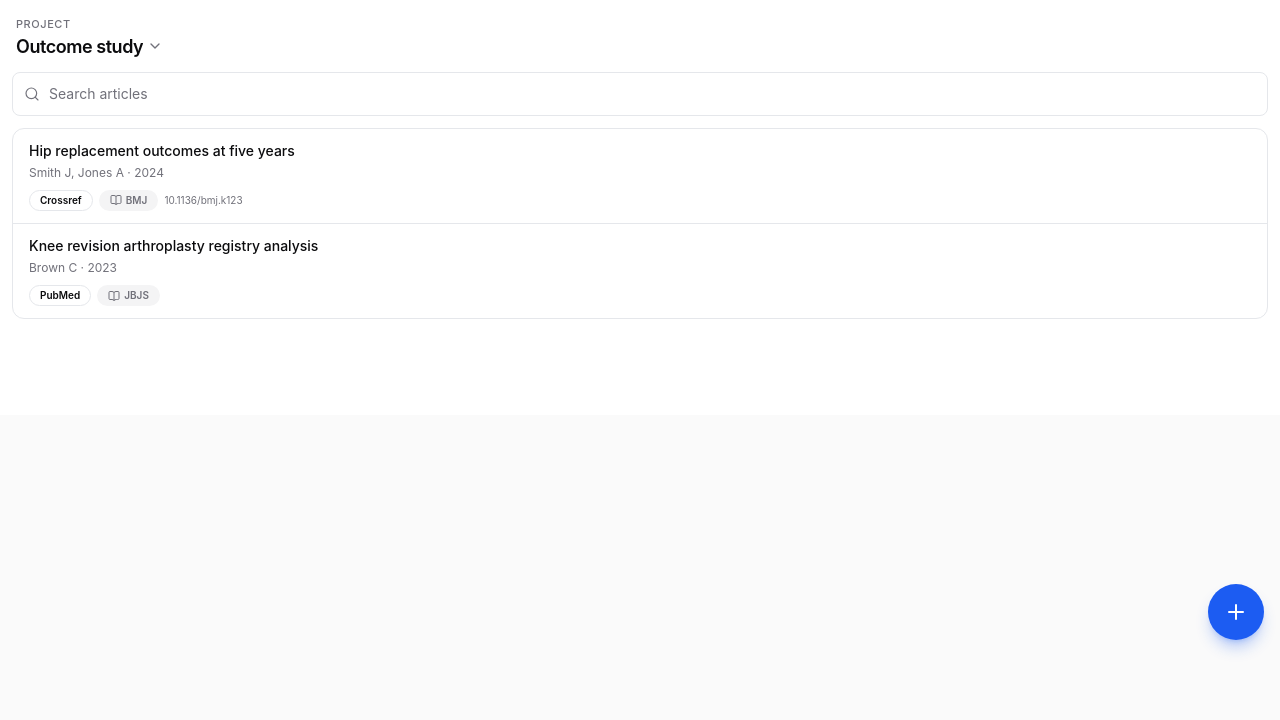
Test case: MobileLibrary › opens the add-action sheet when the FAB is tapped
The width and height of the screenshot is (1280, 720).
Expected: the button with test id "mlib-row-a-1" is shown, [13, 128, 1267, 223]
What coordinates should you click on to do the following:
click the button with test id "mlib-fab"
I would click on:
 (1236, 612)
Its box is [1208, 584, 1264, 640].
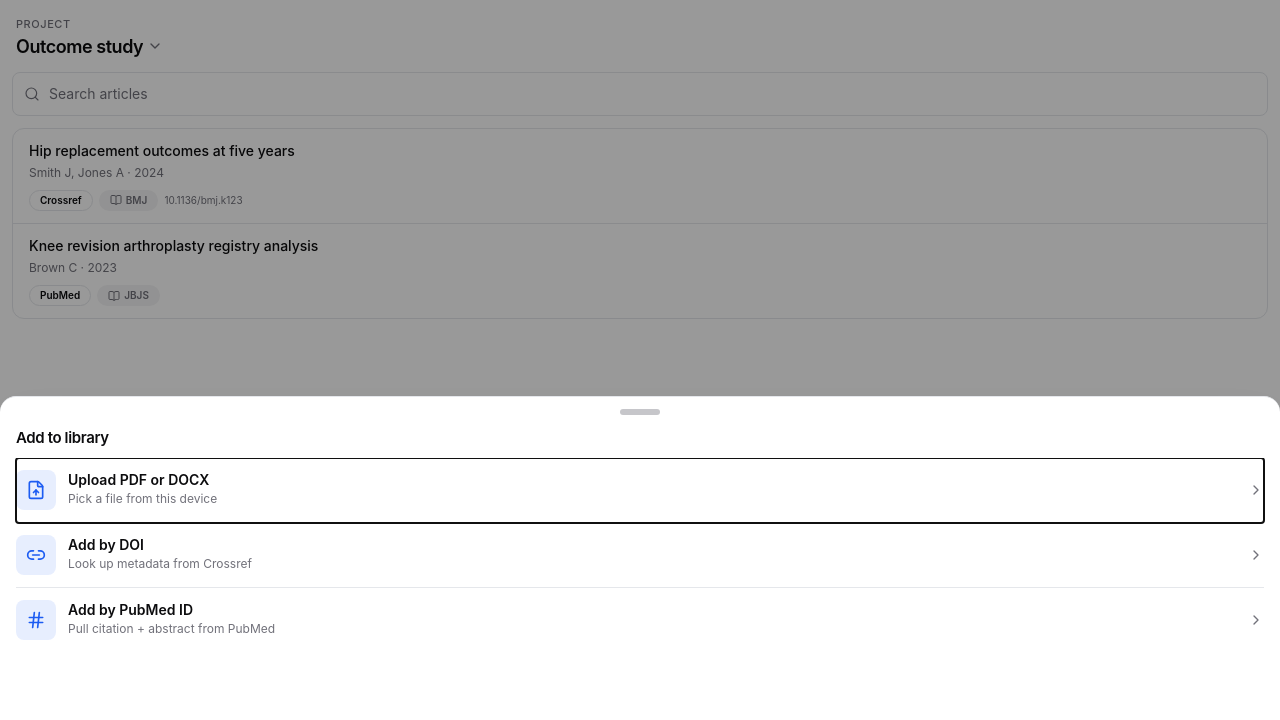
Result: the button with test id "mlib-action-upload" is shown at [16, 458, 1264, 522]
Result: the button with test id "mlib-action-doi" is shown at [16, 522, 1264, 588]
Result: the button with test id "mlib-action-pubmed" is shown at [16, 588, 1264, 652]
